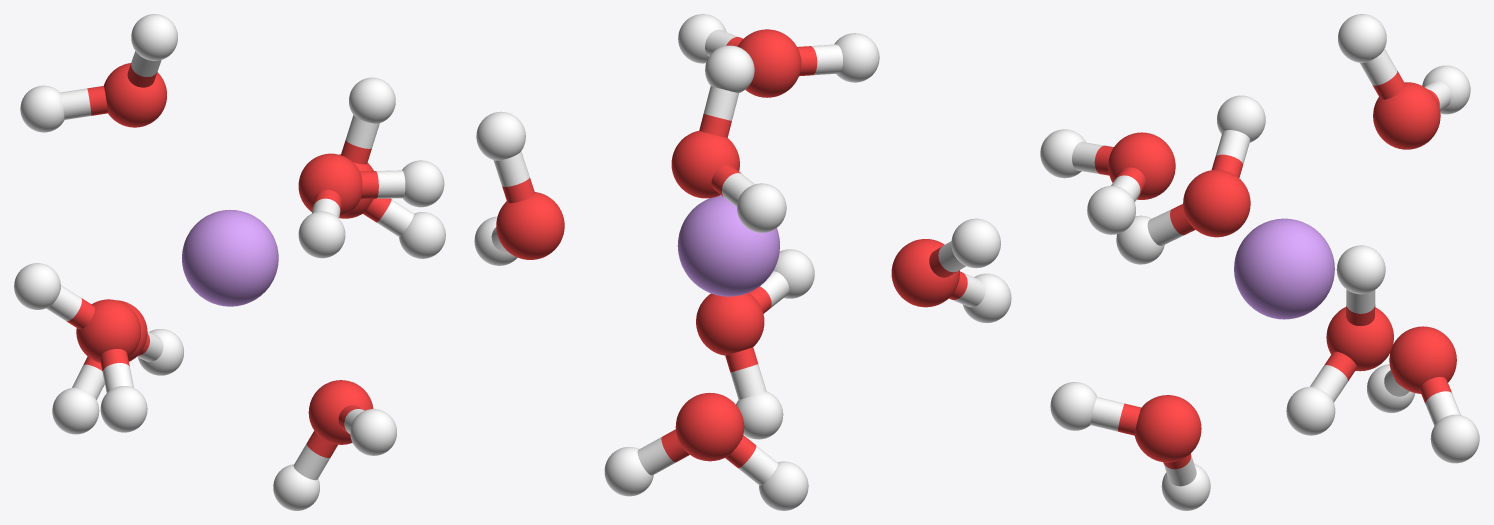
The model's file is hydrated_sodium_ion.glb.
3 renders of one model, left to right at view 1: azimuth 30°, elevation 25°; view 2: azimuth 150°, elevation 25°; view 3: azimuth 270°, elevation 25°, orthographic. The views are drawn at different scales.
Visible parts, largest first — view 1: na-ioni_0; view 2: na-ioni_0; view 3: na-ioni_0.
Boxes of the visible parts, box(x1,y1,x2,y2) form: na-ioni_0: box(14, 14, 445, 510); na-ioni_0: box(474, 14, 1011, 510); na-ioni_0: box(1040, 14, 1479, 510).
Bounding box in the file's own units: 5.71 × 5.28 × 4.54.
